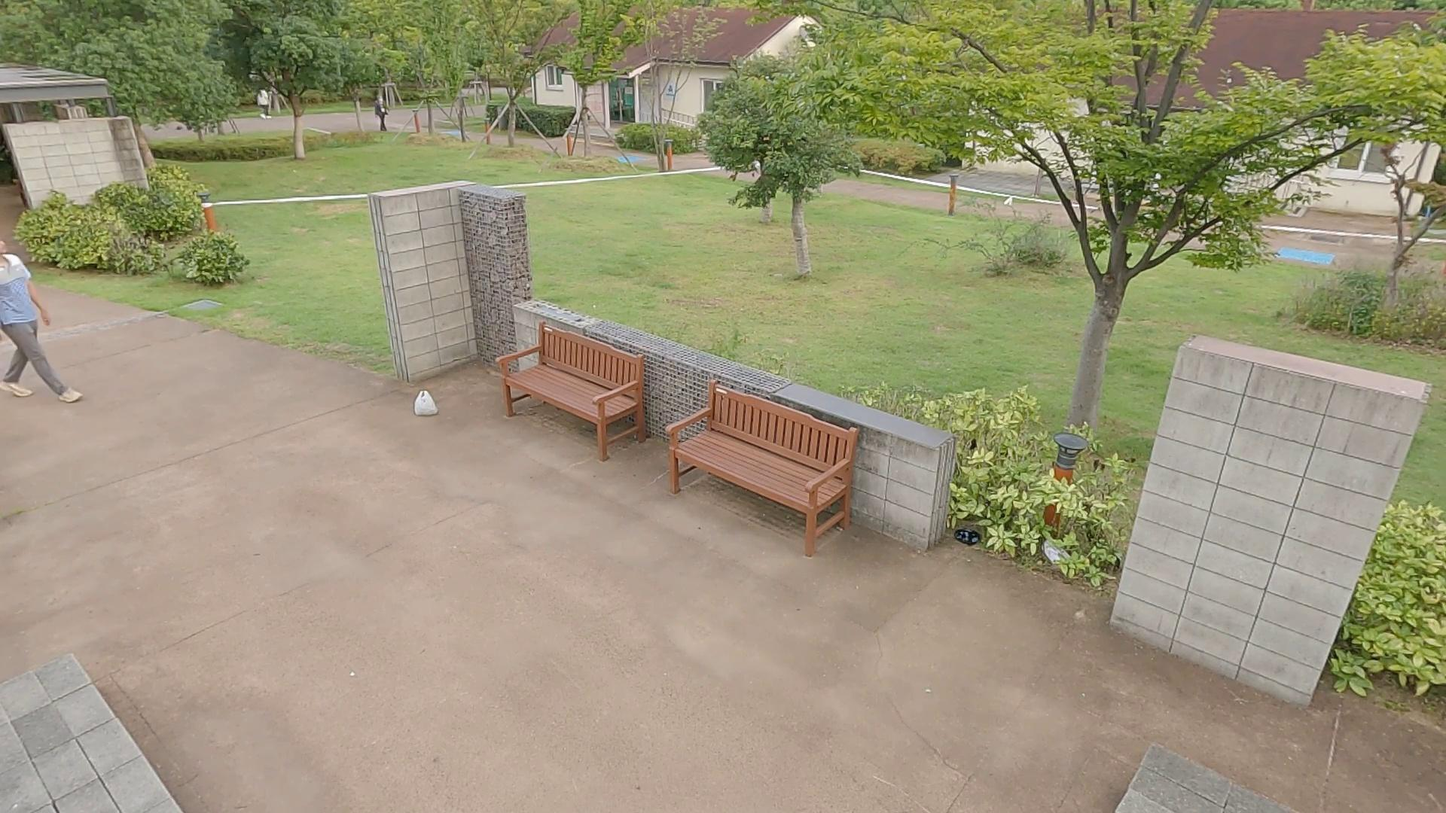person: (0, 227, 87, 417)
trash: (1038, 530, 1076, 567), (413, 386, 441, 420), (953, 524, 984, 549)
